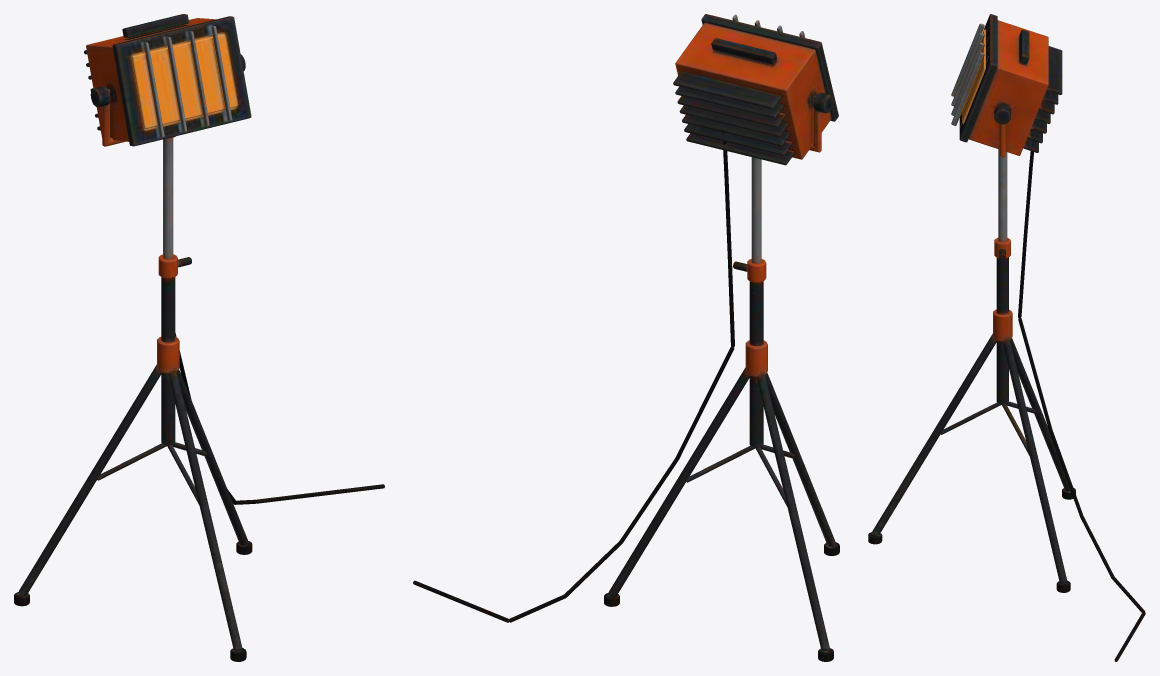
The model's file is work_lamp.glb.
3 renders of one model, left to right at view 1: azimuth 30°, elevation 25°; view 2: azimuth 150°, elevation 25°; view 3: azimuth 270°, elevation 25°, orthographic. The views are drawn at different scales.
Parts seen in each view (by area): view 1: work_lamp; view 2: work_lamp; view 3: work_lamp.
Boxes of the visible parts, bbox=[...] form: work_lamp: bbox=[14, 14, 384, 661]; work_lamp: bbox=[413, 14, 839, 661]; work_lamp: bbox=[868, 14, 1145, 661].
Bounding box in the file's own units: 1.41 × 1.97 × 0.9795.
Materials: 1 (1 with a texture image).
